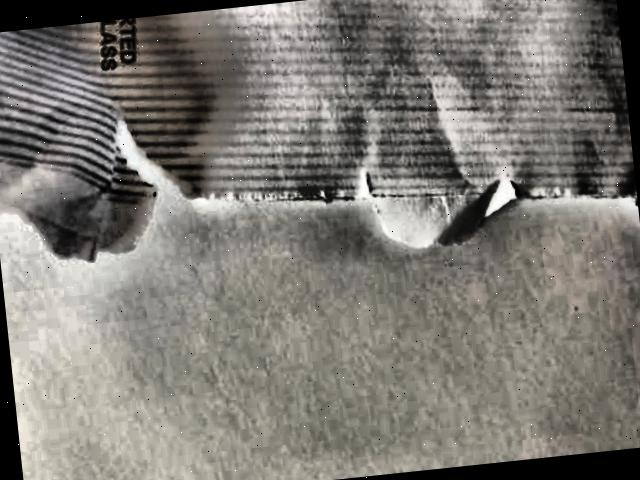Paper: (0, 0, 640, 298)
